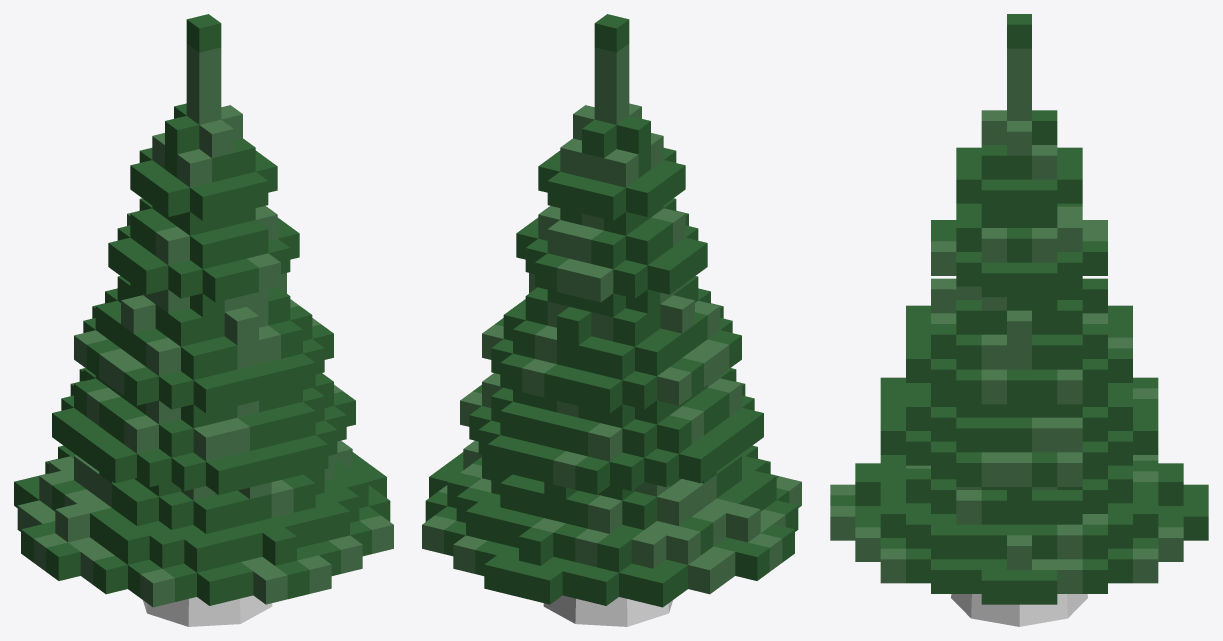
The model's file is pinheiro_adulto.glb.
3 renders of one model, left to right at view 1: azimuth 30°, elevation 25°; view 2: azimuth 150°, elevation 25°; view 3: azimuth 270°, elevation 25°, orthographic.
Parts seen in each view (by area): view 1: Full Grow_003_7, Colisao_004; view 2: Full Grow_003_7, Colisao_004; view 3: Full Grow_003_7, Colisao_004.
Boxes of the visible parts, box(x1,y1,x2,y2) form: Full Grow_003_7: box(14, 14, 393, 607); Colisao_004: box(143, 595, 272, 626); Full Grow_003_7: box(422, 14, 801, 607); Colisao_004: box(543, 595, 672, 626); Full Grow_003_7: box(830, 14, 1208, 604); Colisao_004: box(951, 594, 1087, 626).
Size of the model in its own units: 2.19 by 3.69 by 2.19.
